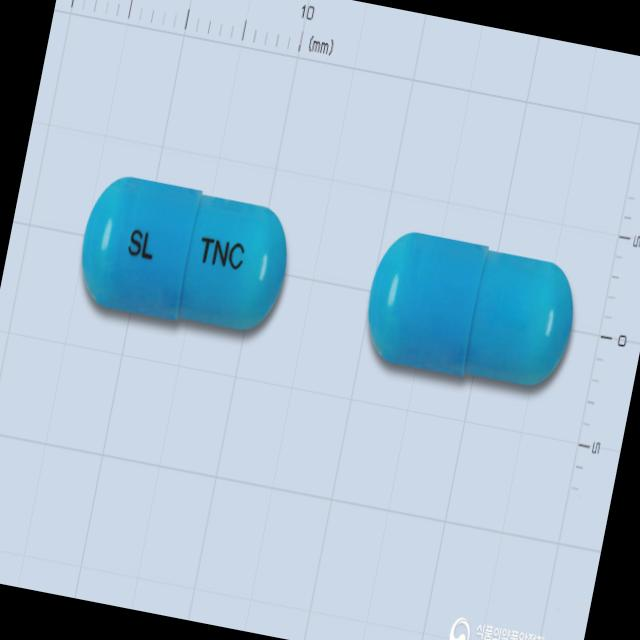Tricyline-N Cap: (72, 167, 299, 343)
